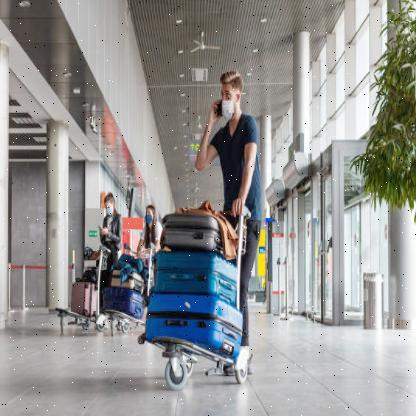airport-trolley: (134, 202, 260, 382), (48, 244, 113, 338), (102, 243, 153, 329)
